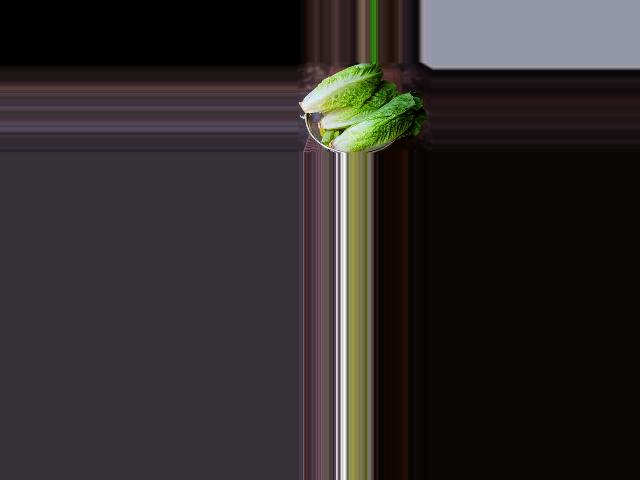lettuce: (322, 90, 423, 153)
